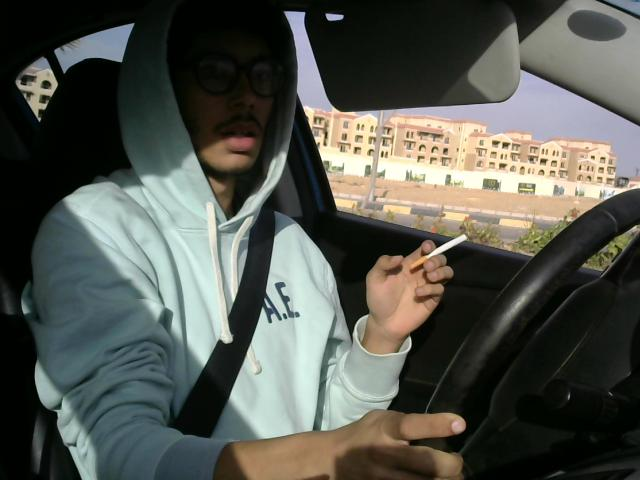Smoking: (404, 231, 475, 277)
